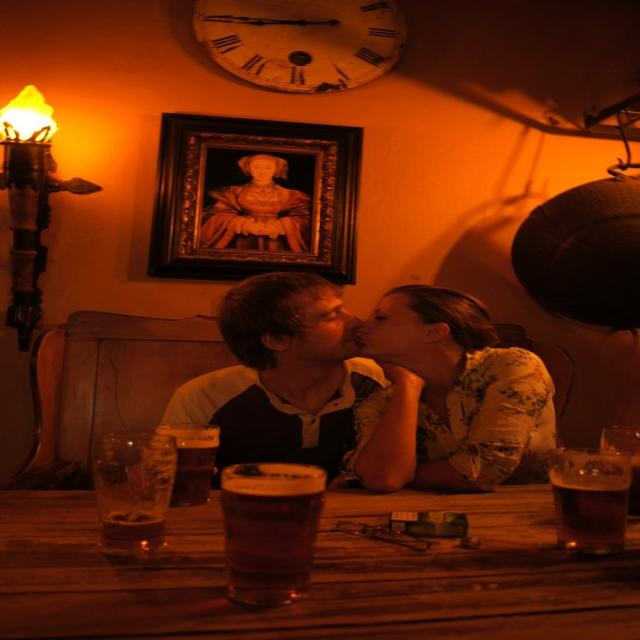Cup: (197, 453, 332, 617), (60, 424, 206, 562), (546, 427, 640, 561)
People: (176, 274, 386, 475), (378, 281, 560, 476), (224, 154, 323, 243)
Table: (0, 471, 640, 640)
